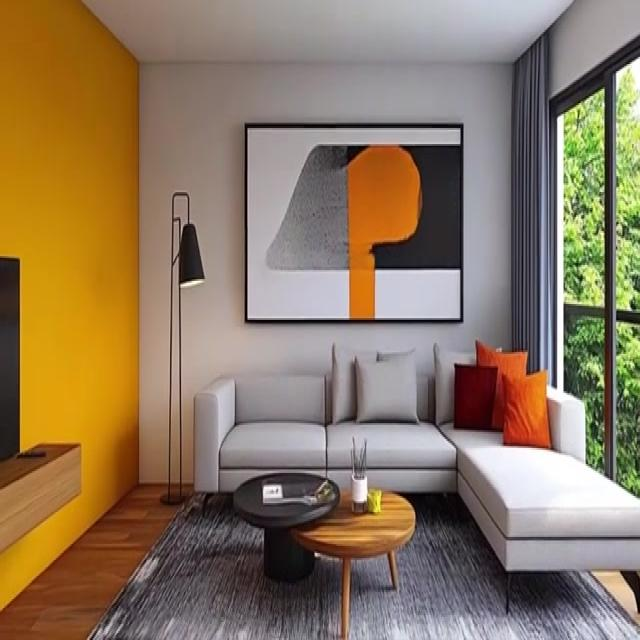obstacle: (193, 340, 639, 615), (290, 487, 416, 638), (232, 469, 340, 583)
